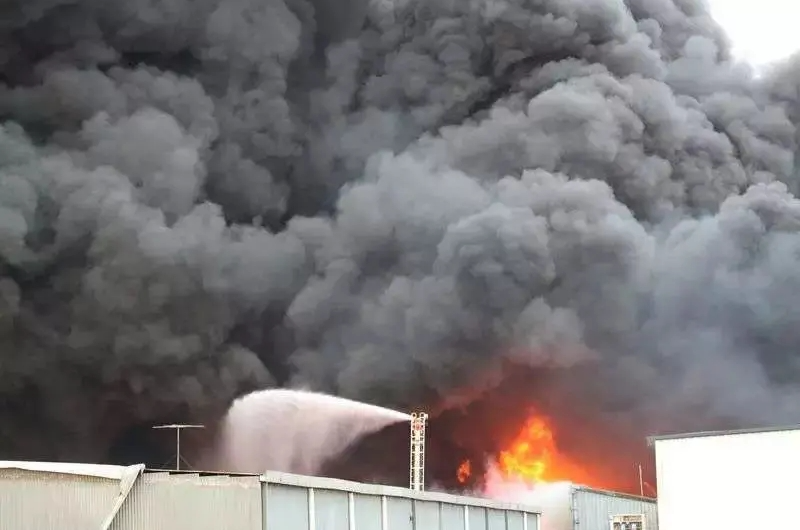喷灌水雾: (196, 384, 414, 479)
